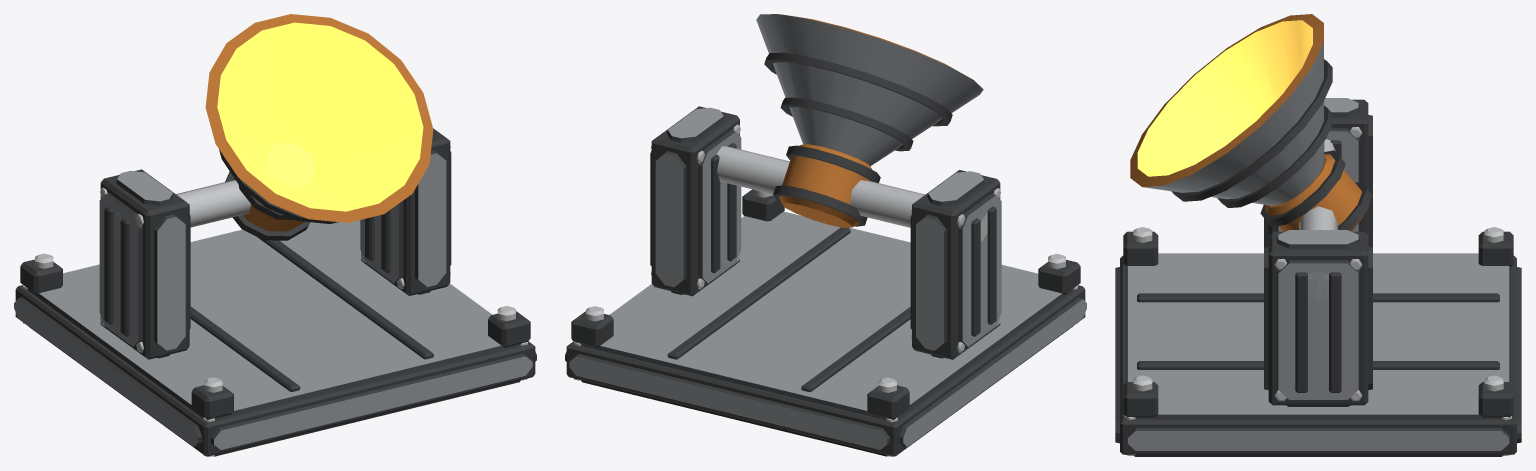
Rendered from R4X_DeployableAmplifier.fbx.
3 views of the same model, side by side, from view 1: azimuth 30°, elevation 25°; view 2: azimuth 150°, elevation 25°; view 3: azimuth 270°, elevation 25° (orthographic). The views are drawn at different scales.
Visible parts, largest first — view 1: R4X_DeployableAmplifier_Body, R4X_DeployableAmplifier_Horn; view 2: R4X_DeployableAmplifier_Body, R4X_DeployableAmplifier_Horn; view 3: R4X_DeployableAmplifier_Body, R4X_DeployableAmplifier_Horn.
Part boxes in pixels (box(x1,y1,x2,y2)): R4X_DeployableAmplifier_Body: box(14, 128, 536, 456); R4X_DeployableAmplifier_Horn: box(205, 14, 433, 240); R4X_DeployableAmplifier_Body: box(565, 106, 1086, 456); R4X_DeployableAmplifier_Horn: box(756, 14, 983, 227); R4X_DeployableAmplifier_Body: box(1115, 98, 1521, 456); R4X_DeployableAmplifier_Horn: box(1130, 14, 1372, 231).
Bounding box in the file's own units: 0.52 × 0.4865 × 0.52.
